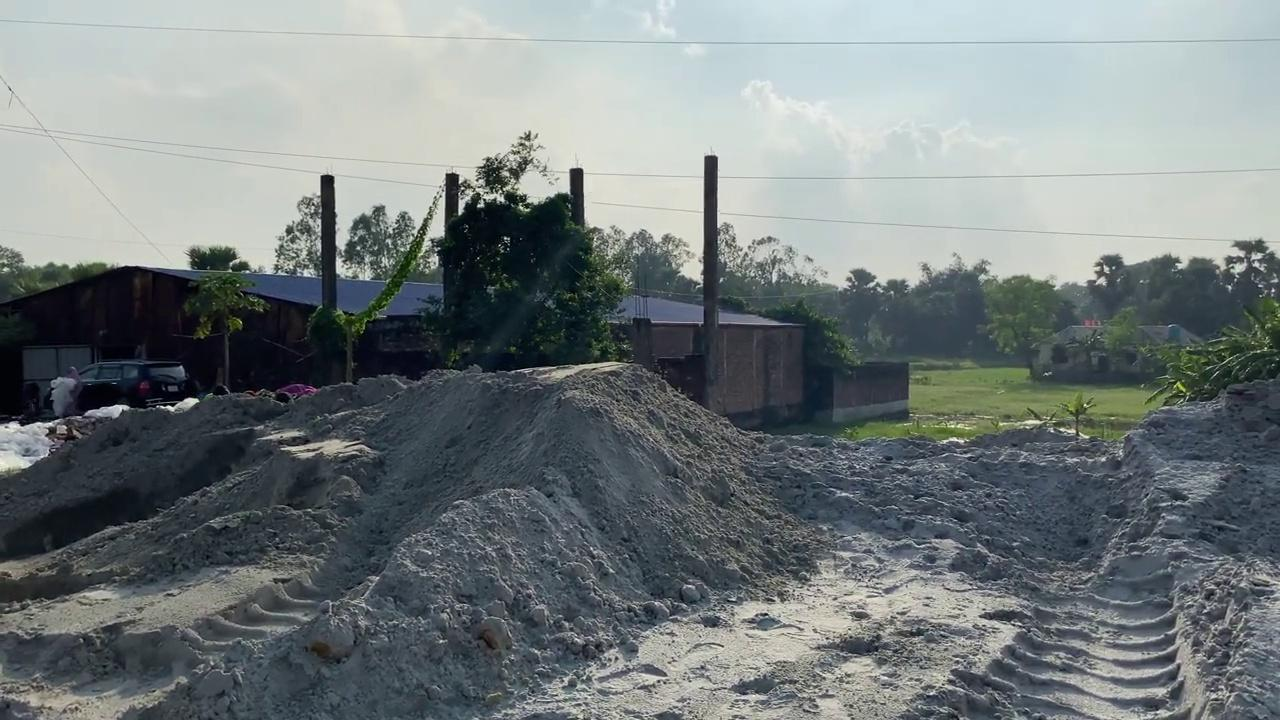Car: (47, 358, 197, 414)
Garbage: (252, 392, 859, 720), (870, 424, 1280, 720)
Obstacle: (626, 311, 807, 426)
Pole: (701, 153, 719, 410), (319, 173, 337, 309), (569, 166, 585, 228)
Traffic-sign: (181, 269, 270, 389)
